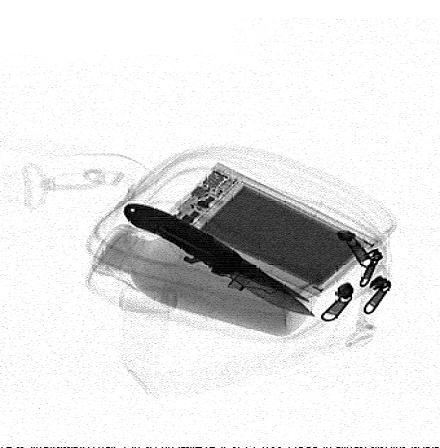Knife: (122, 203, 317, 316)
Powerbank: (159, 162, 377, 297)
Scissors: (170, 225, 321, 312)
